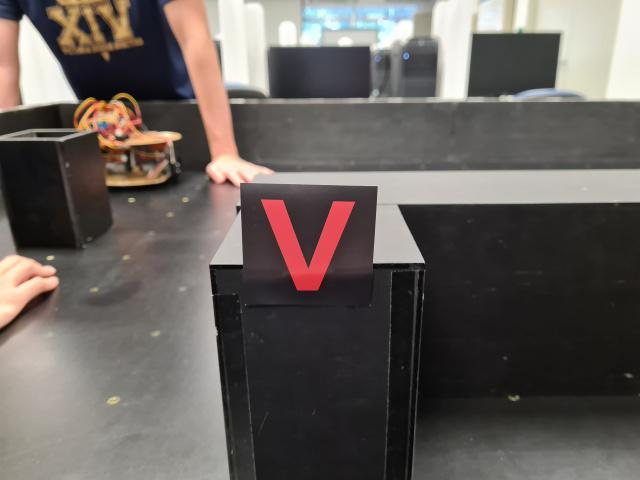v: (238, 182, 377, 311)
